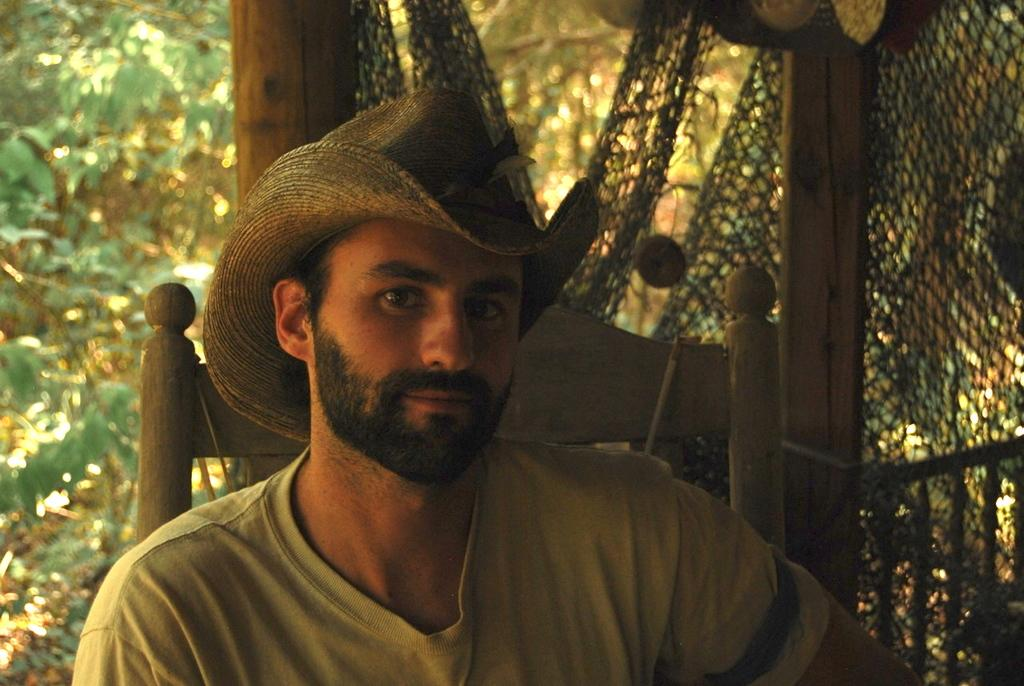Hat: (203, 84, 599, 448)
